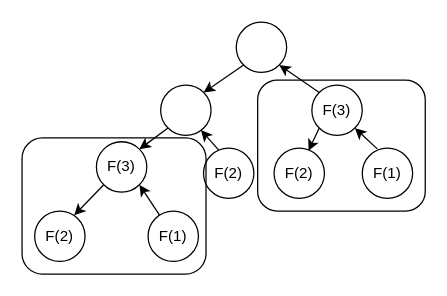
The diagram is 447 pixels wide and 296 high, and some of its shapes have lost their labels. The centre of each missing label's shape, as x and y in pixels:
"F(4)" goes at (x=185, y=109).
"F(5)" goes at (x=261, y=46).
